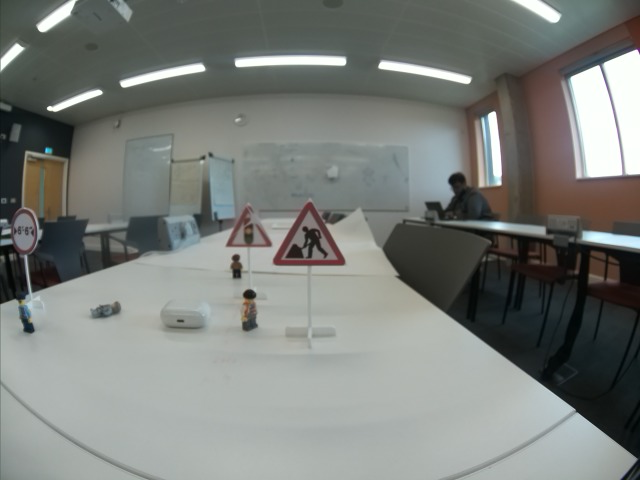6ft6: (12, 207, 39, 253)
Lego Man: (14, 288, 35, 336), (240, 288, 259, 333), (89, 297, 123, 321), (230, 251, 244, 280)
Roadworks: (272, 204, 347, 265)
Traffic lights: (224, 203, 275, 247)
